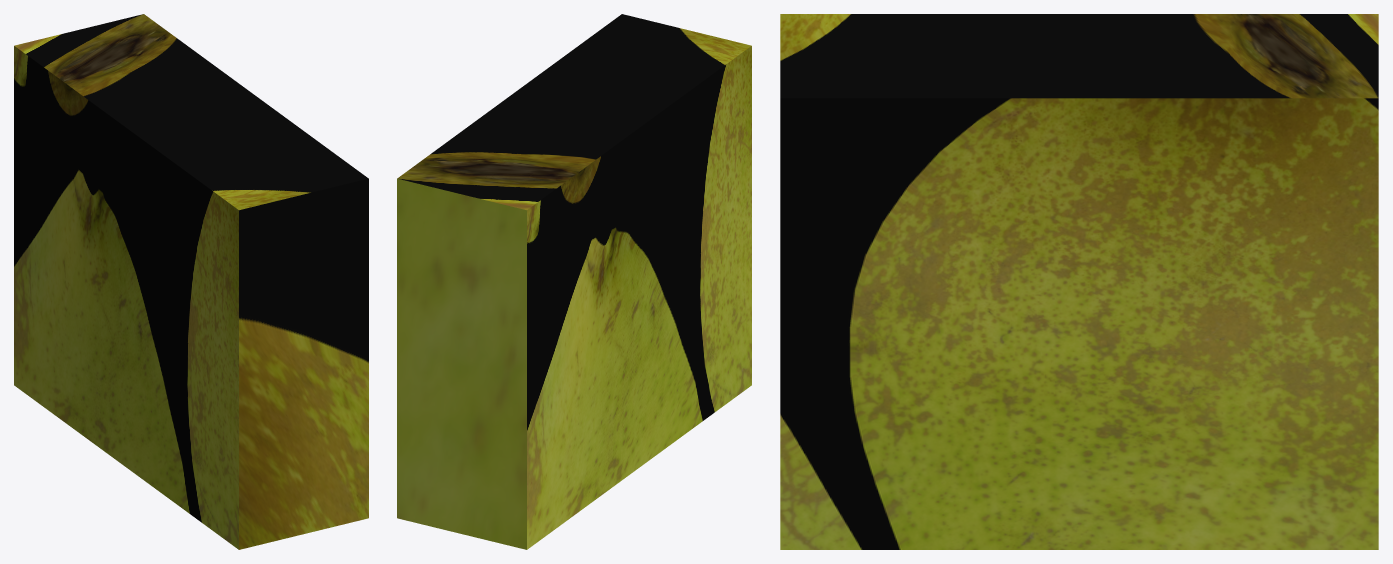
3 views of the same model, side by side, from view 1: azimuth 30°, elevation 25°; view 2: azimuth 150°, elevation 25°; view 3: azimuth 270°, elevation 25° (orthographic). The views are drawn at different scales.
Size of the model in its own units: 0.3333 by 0.8333 by 1.
